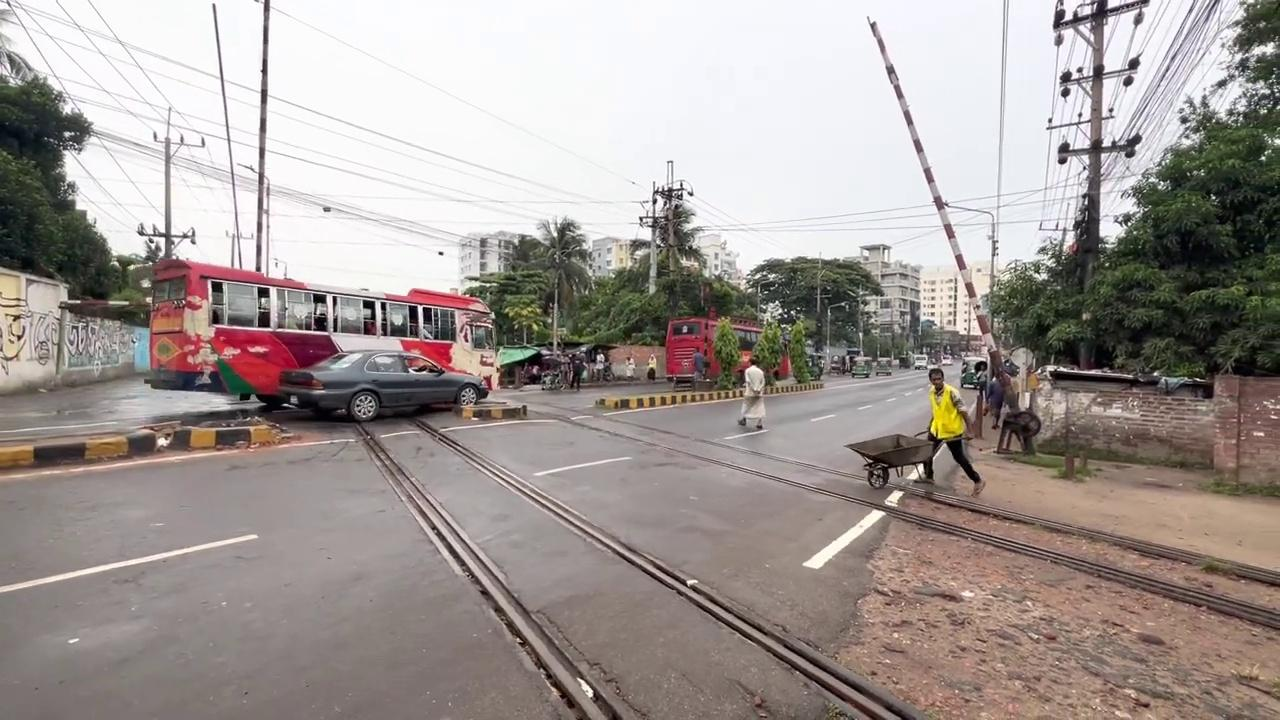Bollard: (277, 350, 489, 422)
Broken-road: (593, 379, 824, 410)
Dog: (2, 357, 1277, 718)
Downstairs: (843, 431, 935, 488)
Fence: (915, 367, 986, 496), (737, 356, 765, 429), (691, 346, 707, 381)
Garbage: (866, 15, 1003, 394), (1048, 0, 1149, 370), (253, 0, 271, 274)
Motorcycle: (506, 399, 1279, 630), (351, 409, 923, 718)
Railroad-crossing: (529, 214, 594, 353)
Rickshaw: (142, 257, 500, 407), (664, 309, 792, 386)
